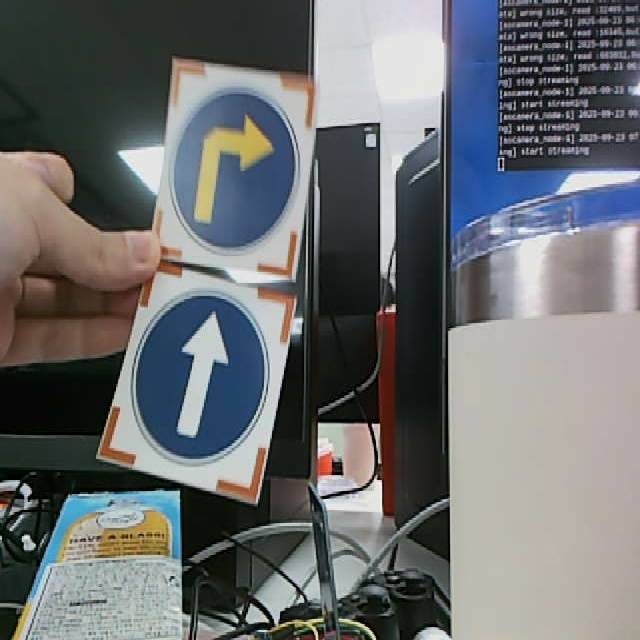right: (144, 57, 314, 277)
straight: (98, 266, 294, 502)
